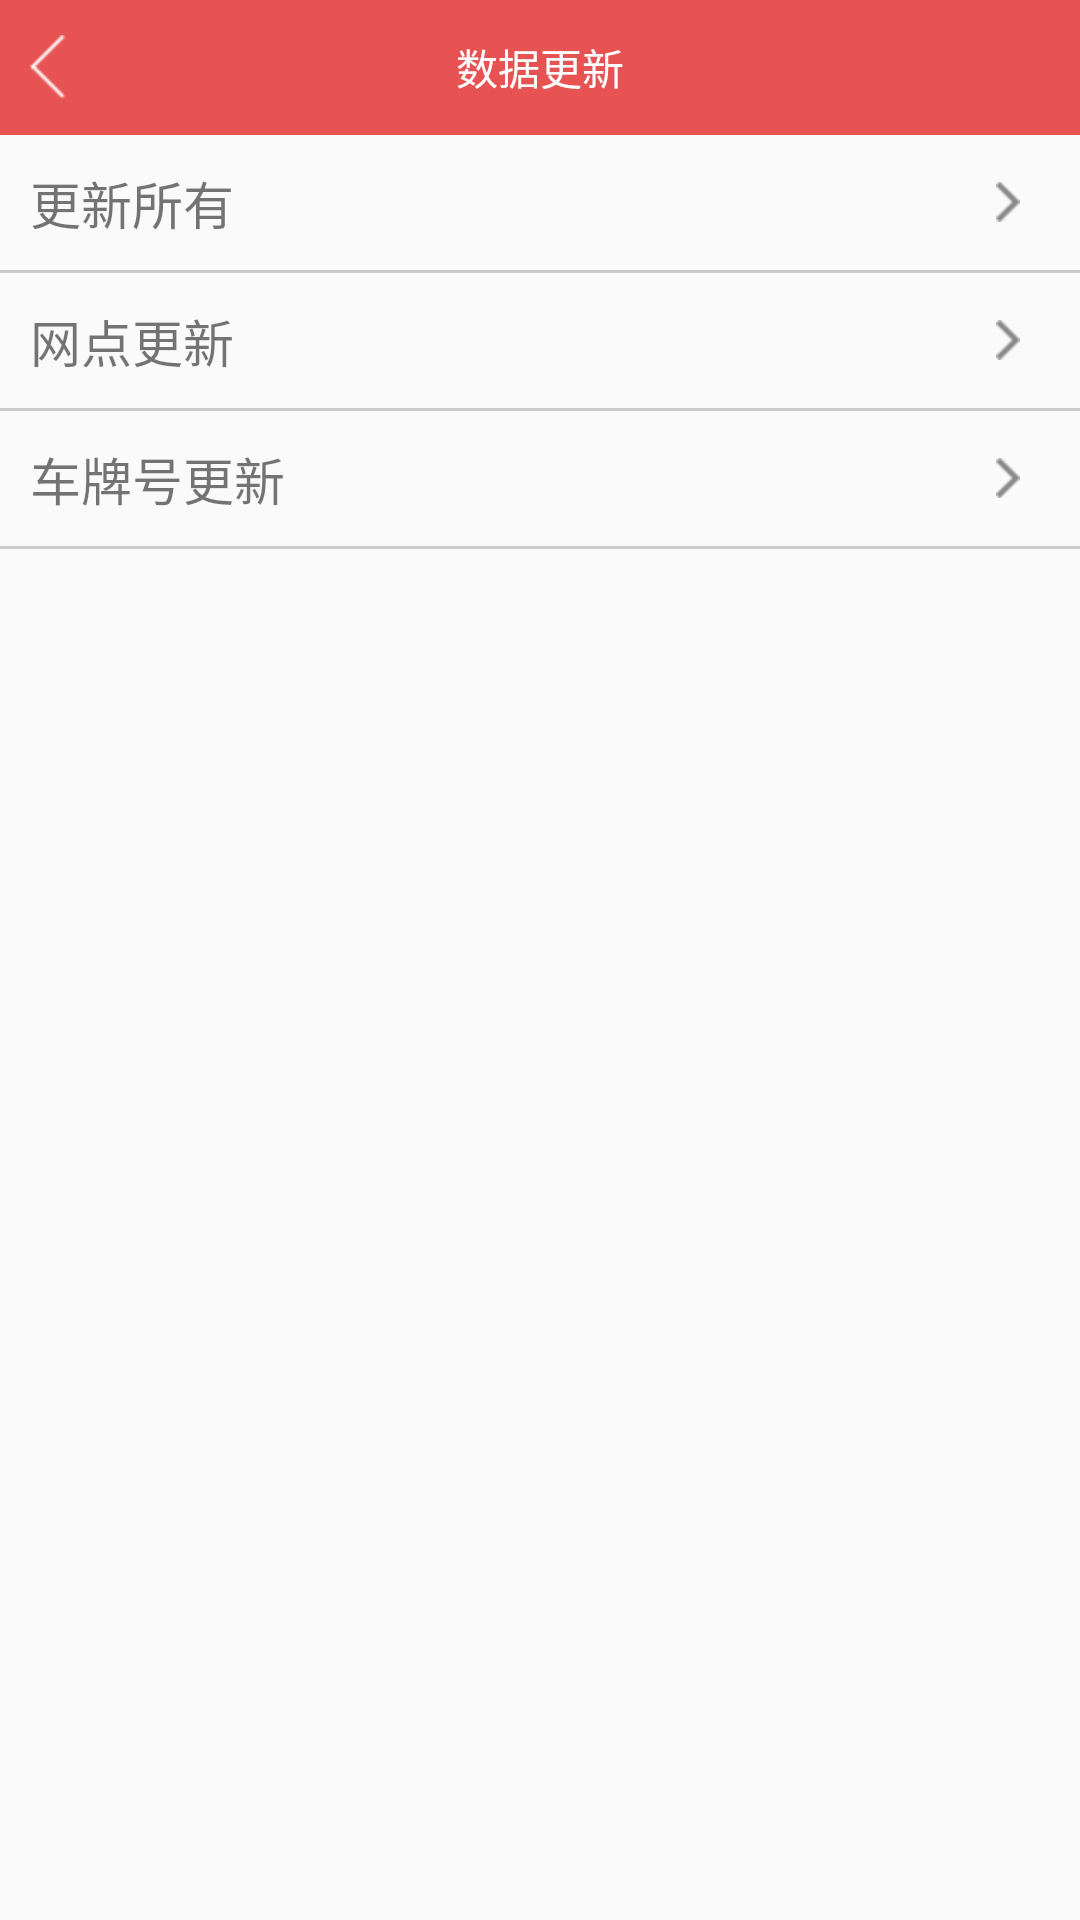

Named icons in this screenshot (1080×1920) and their centers, point (x, y):
back: point (47, 67)
